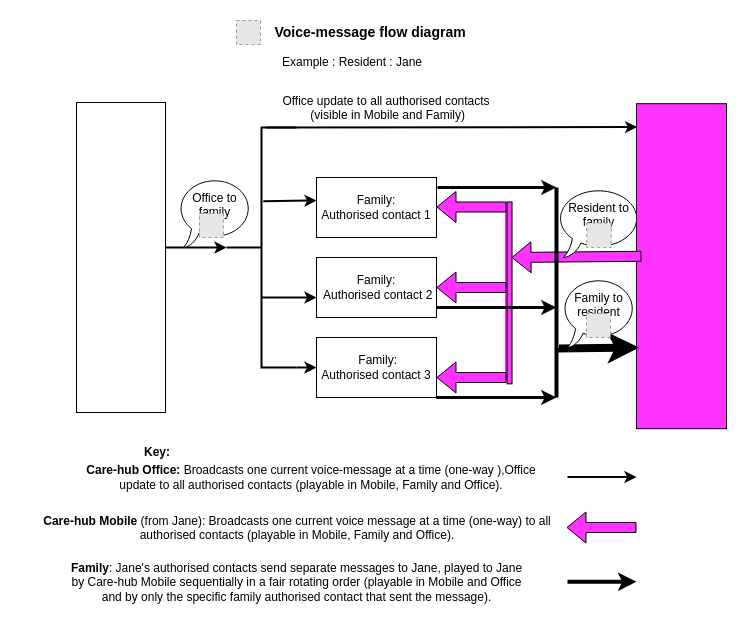
This 744x621 diagram has some shape labels left out. Grey dashed boxes stand in for pictures. Here are the shapes that lost their labels. From the top down, the box of each, then its label:
(76, 102, 166, 412): Care-hub Office message: To: Jane's family
(636, 103, 726, 429): Care-hub Mobile: carer and Resident (Jane)
